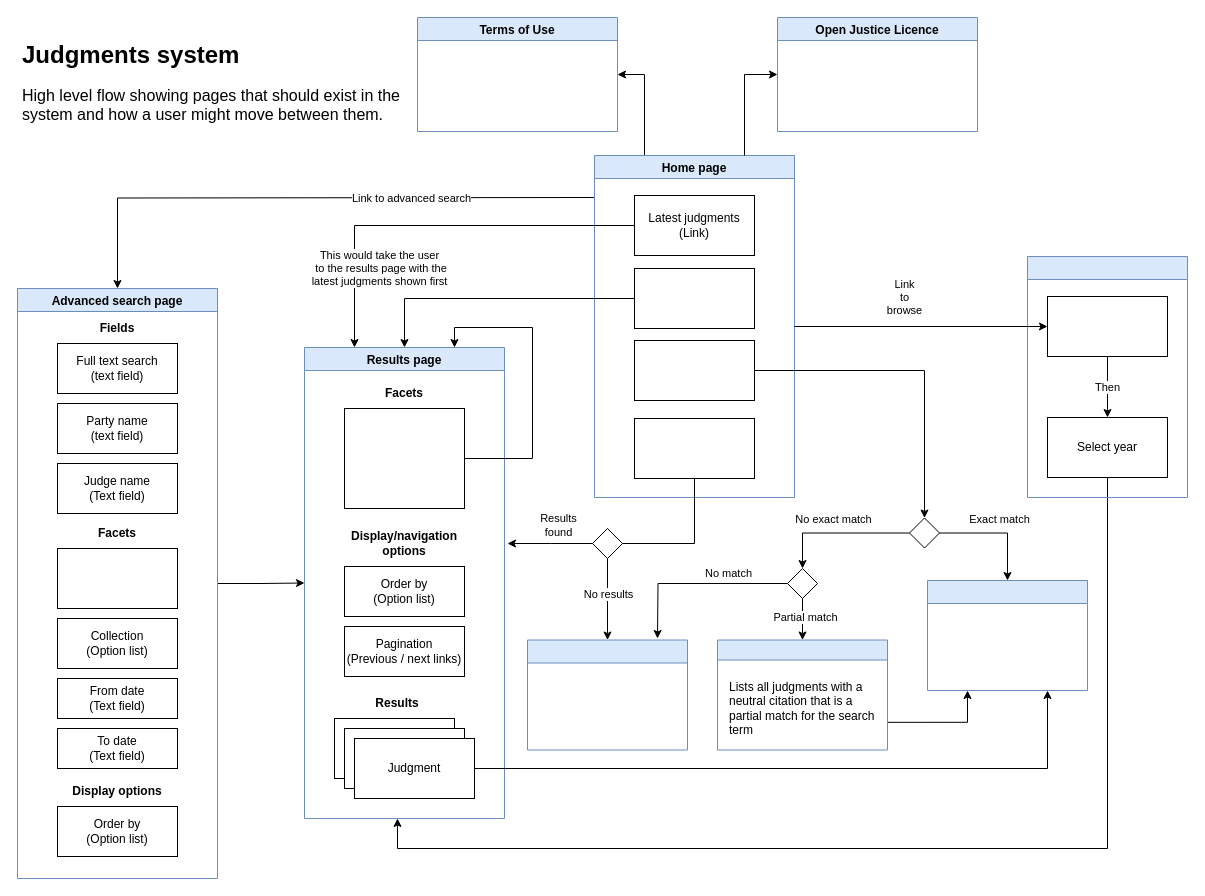
This 1205x896 diagram has some shape labels left out. Here are the shapes that lost their labels. From the top down, the box of each, then its label:
(634, 268, 754, 328): Collections (List)
(1046, 296, 1168, 356): Select court
(634, 340, 754, 400): Neutral citation (Form)
(1026, 256, 1188, 498): Browse page(s)
(344, 408, 464, 508): Apply/remove refinement (replicating those available on advanced search)
(634, 418, 754, 478): Basic search (Form)
(56, 548, 178, 608): Court (Select with opt group)
(926, 580, 1088, 690): Judgment page
(526, 639, 688, 750): No results page
(716, 639, 888, 750): Disambiguation page
